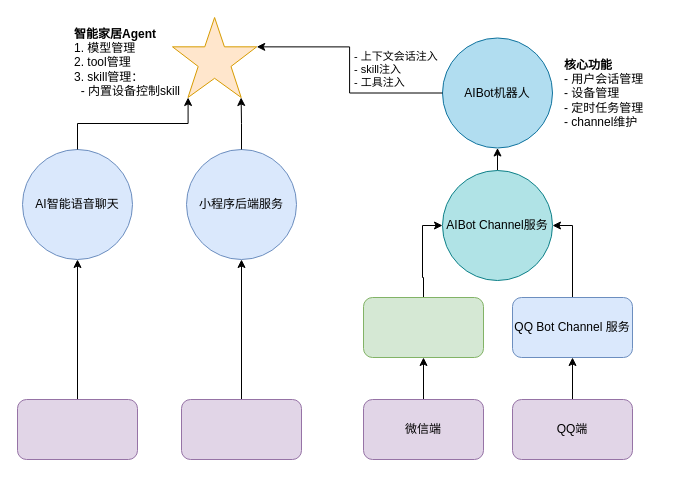
This 695x477 diagram has some shape labels left out. Here are the shapes that lost their labels. From the top down, the centre of each, then its label:
At point (423, 327): "微信ILink服务".
At point (77, 429): "设备端".
At point (241, 429): "小程序/应用端".
